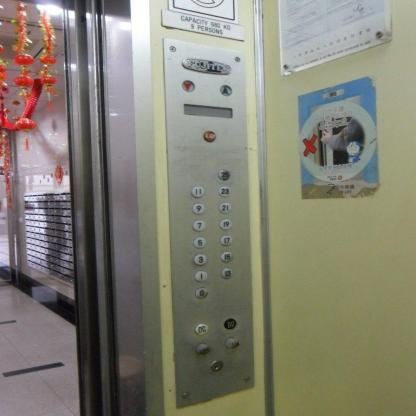1: (194, 270, 207, 281)
11: (191, 186, 204, 197)
13: (221, 268, 233, 278)
15: (220, 252, 232, 262)
17: (220, 235, 232, 245)
19: (220, 219, 232, 229)
21: (218, 202, 230, 213)
23: (218, 184, 230, 196)
25: (218, 169, 230, 180)
3: (194, 254, 205, 265)
5: (193, 237, 205, 248)
7: (192, 220, 205, 231)
9: (192, 202, 204, 214)
DC: (194, 323, 208, 334)
DO: (223, 318, 236, 329)
G: (195, 287, 207, 298)
down: (181, 80, 195, 92)
keyhole: (210, 360, 223, 372)
text_ALARM: (202, 131, 216, 142)
text_blur: (224, 337, 239, 348), (196, 343, 210, 354)
up: (220, 85, 232, 96)
